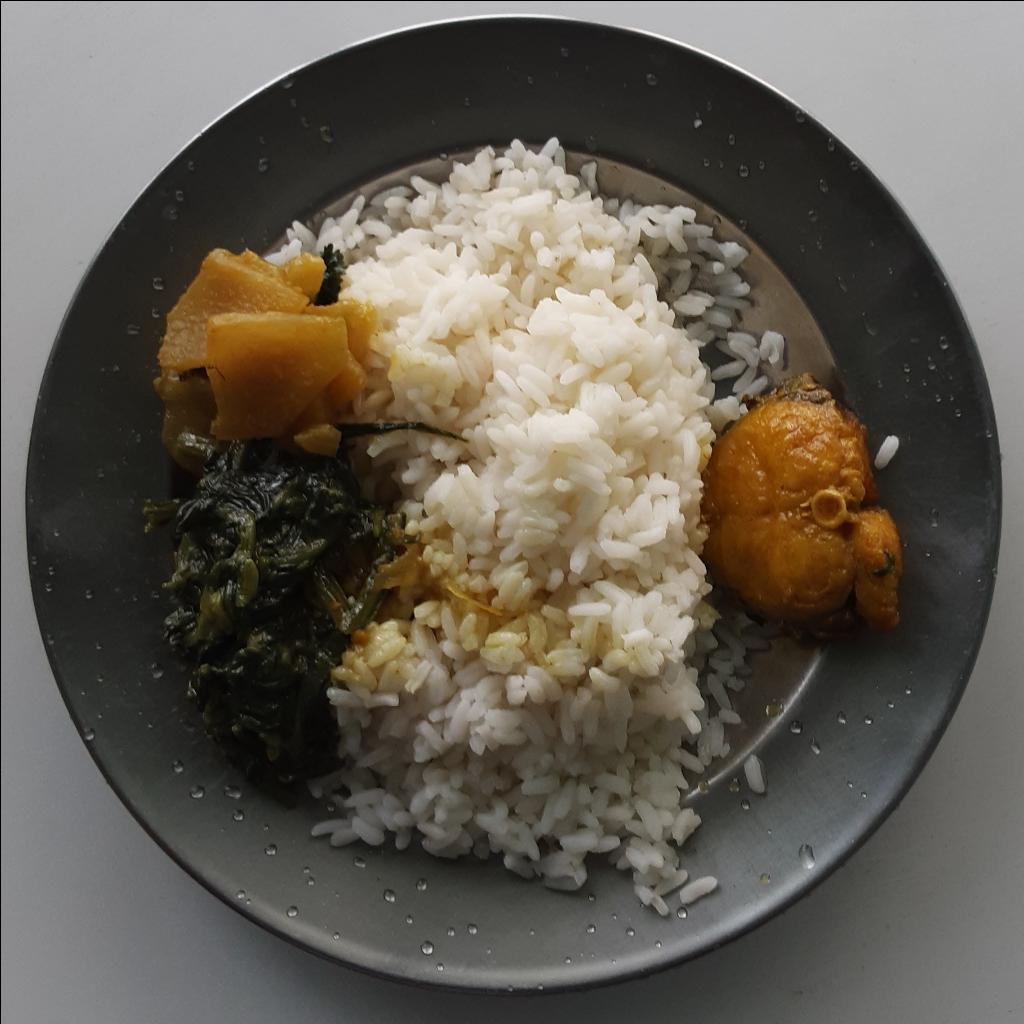fish: (708, 374, 907, 651)
papaya: (145, 246, 376, 452)
rice: (277, 132, 782, 924)
shak: (162, 432, 416, 804)
